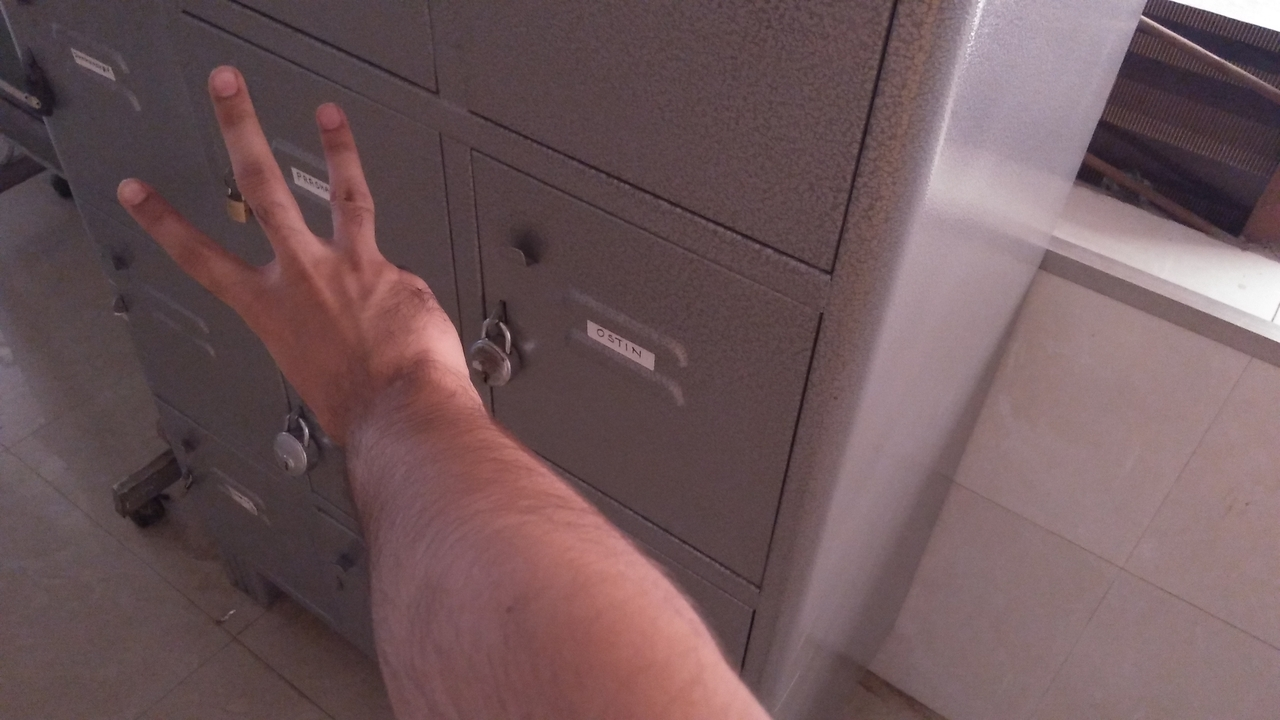fingertip: (192, 56, 252, 104), (106, 170, 166, 214), (300, 94, 356, 136)
